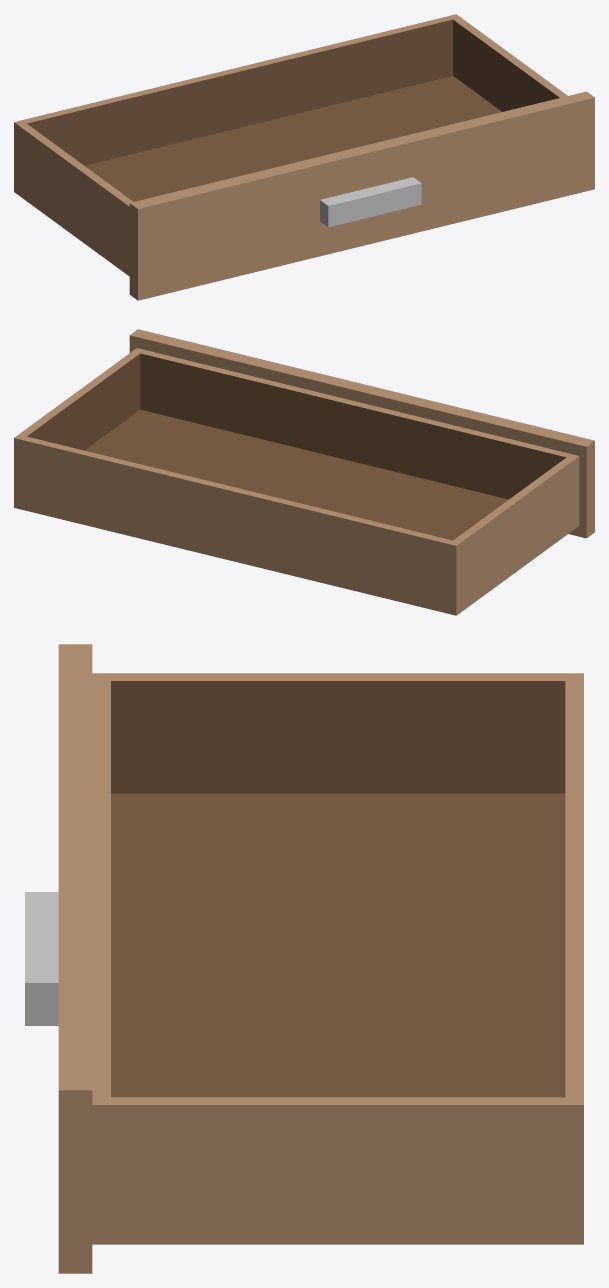
Rendered from drawer_ac_2.glb.
The picture shows the model from 3 angles, top to bottom: view 1: azimuth 30°, elevation 25°; view 2: azimuth 150°, elevation 25°; view 3: azimuth 270°, elevation 25°; orthographic projection. The views are drawn at different scales.
Visible parts, largest first — view 1: Drawer A Ac; view 2: Drawer A Ac; view 3: Drawer A Ac.
Boxes of the visible parts, box(x1,y1,x2,y2) form: Drawer A Ac: box(14, 14, 594, 300); Drawer A Ac: box(14, 329, 594, 615); Drawer A Ac: box(25, 644, 583, 1273).
Bounding box in the file's own units: 1.26 × 0.2411 × 0.6661.
1 material, 1 textured.
